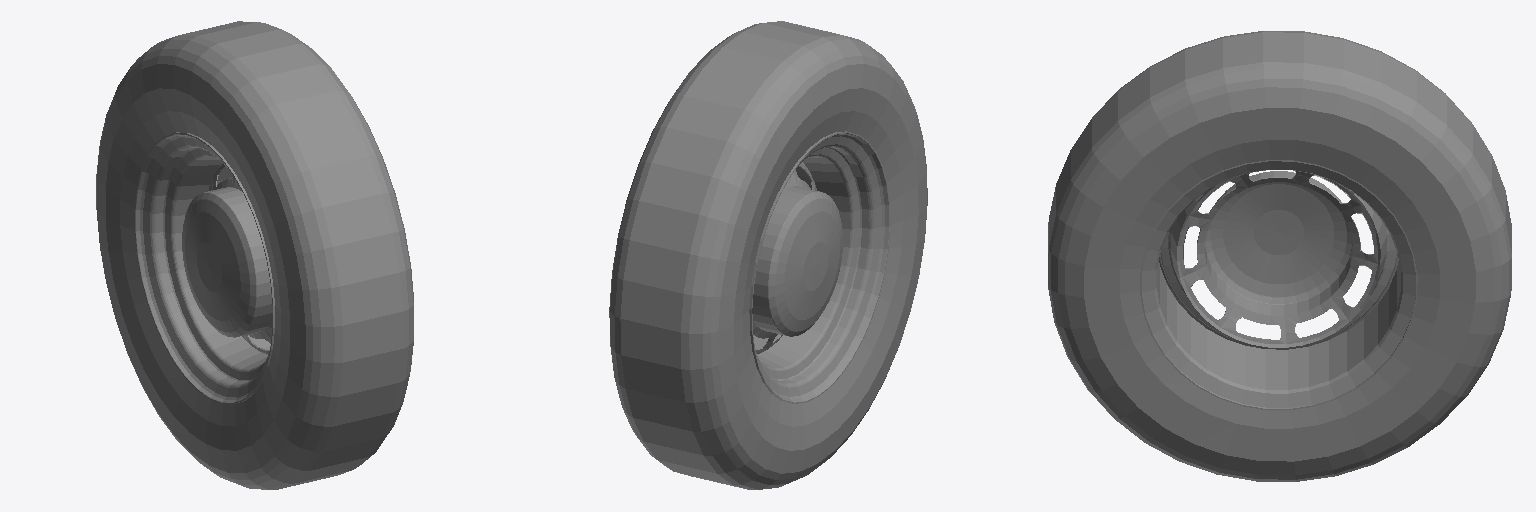
Rendered from llanta2.obj.
3 renders of one model, left to right at view 1: azimuth 30°, elevation 25°; view 2: azimuth 150°, elevation 25°; view 3: azimuth 270°, elevation 25°, orthographic.
Visible parts, largest first — view 1: Pneu_D_Front; view 2: Pneu_D_Front; view 3: Pneu_D_Front.
Part boxes in pixels (x1,y1,x2,y2): Pneu_D_Front: (96, 21, 413, 489); Pneu_D_Front: (609, 21, 927, 489); Pneu_D_Front: (1048, 31, 1511, 481).
Size of the model in its own units: 1.67 by 5.62 by 5.62.